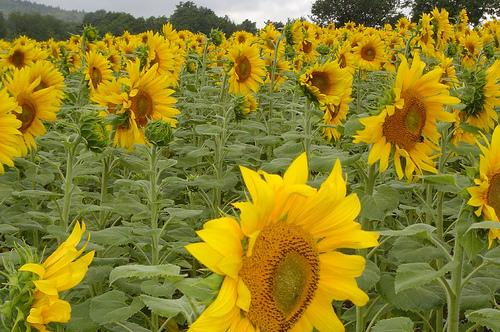sunflower: (194, 154, 378, 332), (358, 55, 452, 181), (22, 219, 98, 332), (122, 60, 179, 144), (5, 73, 57, 153), (299, 66, 353, 103), (224, 47, 263, 96), (319, 92, 350, 140), (0, 42, 41, 73), (84, 53, 114, 94), (352, 35, 388, 66)
